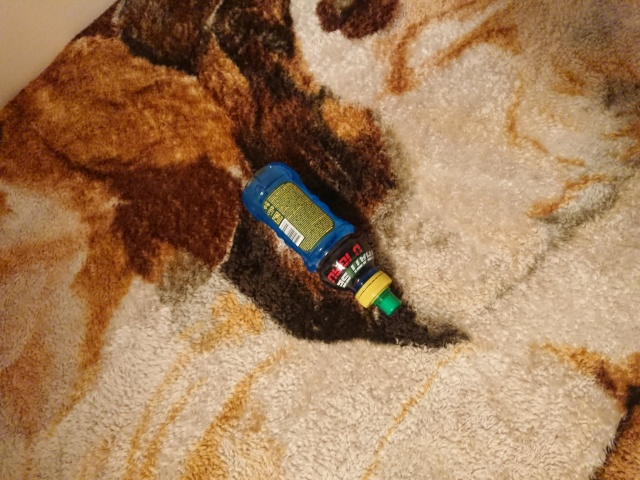Vindi Iso Sport Forest Strawberries 500mL: (239, 159, 404, 317)
